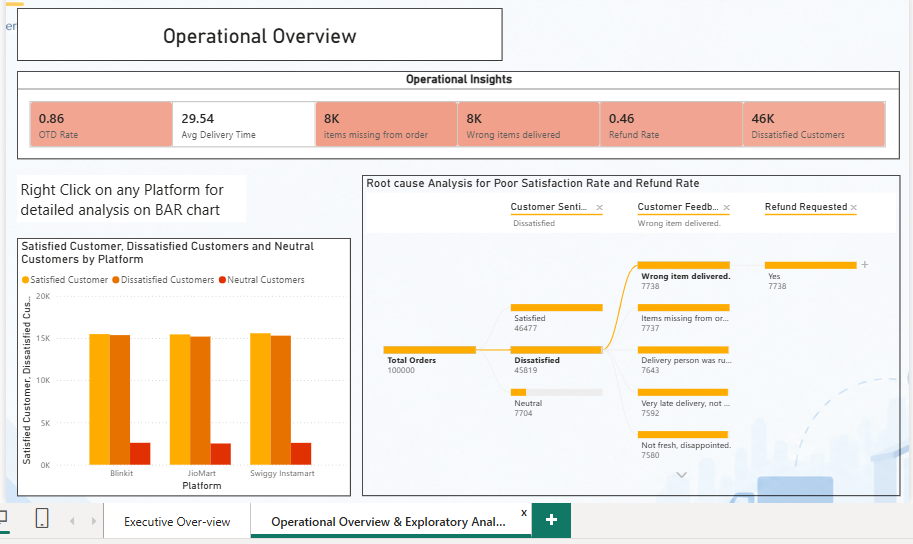

What the dashboard file says about the page in this screenshot:
{"tool":"powerbi","page":{"name":"Operational Overview  & Exploratory Analysis ","canvas":[1280,720],"ordinal":1},"visuals":[{"type":"cardVisual","title":"Operational Insights ","fields":{"Data":["Ecommerce_Delivery_Analytics_Ne.OTD Rate","Ecommerce_Delivery_Analytics_Ne.Avg Delivery Time","Blinkit Data.items missing from order","Blinkit Data.Wrong items delivered","Blinkit Data.Refund Rate 2","Ecommerce_Delivery_Analytics_Ne.Dissatisfied Customers"]},"box":[15.8,108,1251.4,125.3],"z":0},{"type":"decompositionTreeVisual","title":"Root cause Analysis for Poor Satisfaction Rate and Refund Rate ","fields":{"ExplainBy":["Ecommerce_Delivery_Analytics_Ne.Customer Sentiment","Ecommerce_Delivery_Analytics_Ne.Customer Feedback","Ecommerce_Delivery_Analytics_Ne.Refund Requested","Ecommerce_Delivery_Analytics_Ne.Platform Hierarchy.Platform","Ecommerce_Delivery_Analytics_Ne.Delivery Delay"],"Analyze":["Ecommerce_Delivery_Analytics_Ne.Total Orders"]},"box":[504.6,255.1,762.5,455],"z":1000},{"type":"card","fields":{"Values":["Blinkit Data.heading"]},"box":[15.8,18.7,688.3,74.9],"z":2000},{"type":"clusteredColumnChart","fields":{"Y":["Ecommerce_Delivery_Analytics_Ne.Satisfied Customer","Ecommerce_Delivery_Analytics_Ne.Dissatisfied Customers","Blinkit Data.Neutral Customers"],"Category":["Ecommerce_Delivery_Analytics_Ne.Platform Hierarchy.Platform","Ecommerce_Delivery_Analytics_Ne.Platform Hierarchy.Product Category"]},"box":[15.6,344.4,473.4,365.7],"z":3000},{"type":"textbox","box":[15.6,255.1,324.6,66.6],"z":4000}]}

Visuals, with their boxes in screenshot pixels (x1, y1, x2, y2):
"Operational Insights " cardVisual: x1=16 y1=69 x2=896 y2=157
"Root cause Analysis for Poor Satisfaction Rate and Refund Rate " decompositionTreeVisual: x1=360 y1=172 x2=896 y2=492
card - Blinkit Data.heading: x1=16 y1=6 x2=500 y2=59
clusteredColumnChart - Ecommerce_Delivery_Analytics_Ne.Satisfied Customer x Ecommerce_Delivery_Analytics_Ne.Dissatisfied Customers: x1=16 y1=235 x2=349 y2=492
textbox: x1=16 y1=172 x2=244 y2=219
